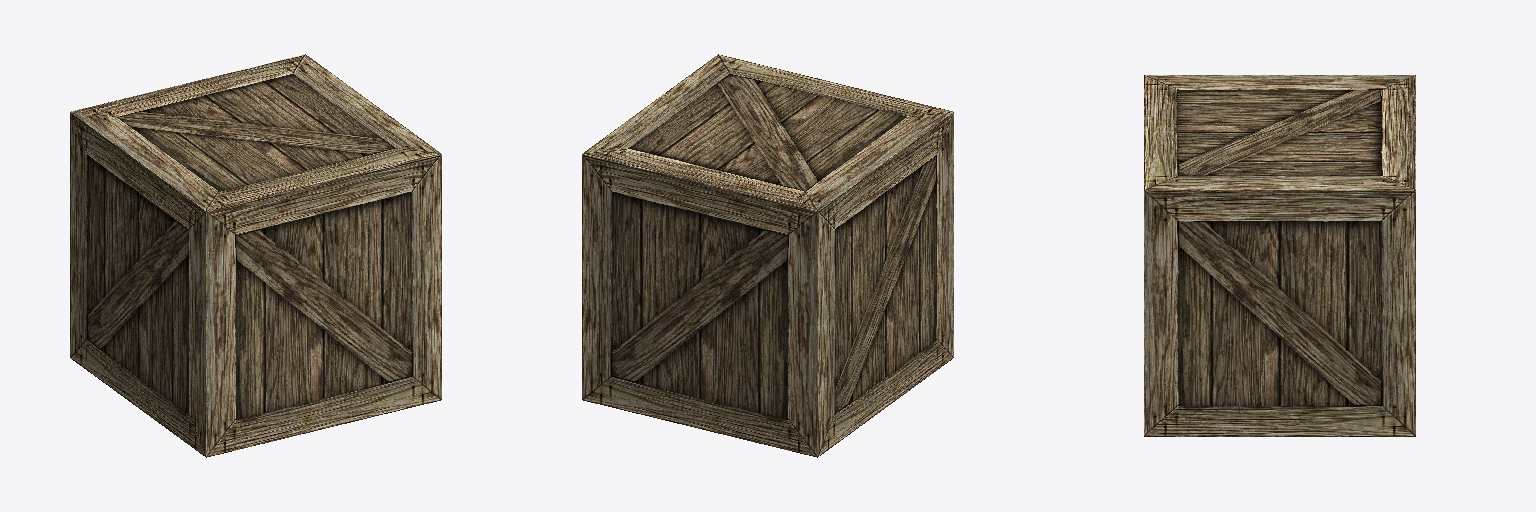
3 renders of one model, left to right at view 1: azimuth 30°, elevation 25°; view 2: azimuth 150°, elevation 25°; view 3: azimuth 270°, elevation 25°, orthographic.
Visible parts, largest first — view 1: Cube; view 2: Cube; view 3: Cube.
Part boxes in pixels (x1,y1,x2,y2): Cube: (70, 54, 441, 457); Cube: (582, 54, 953, 457); Cube: (1144, 75, 1415, 436).
Size of the model in its own units: 2 by 2 by 2.
Materials: 1 (1 with a texture image).